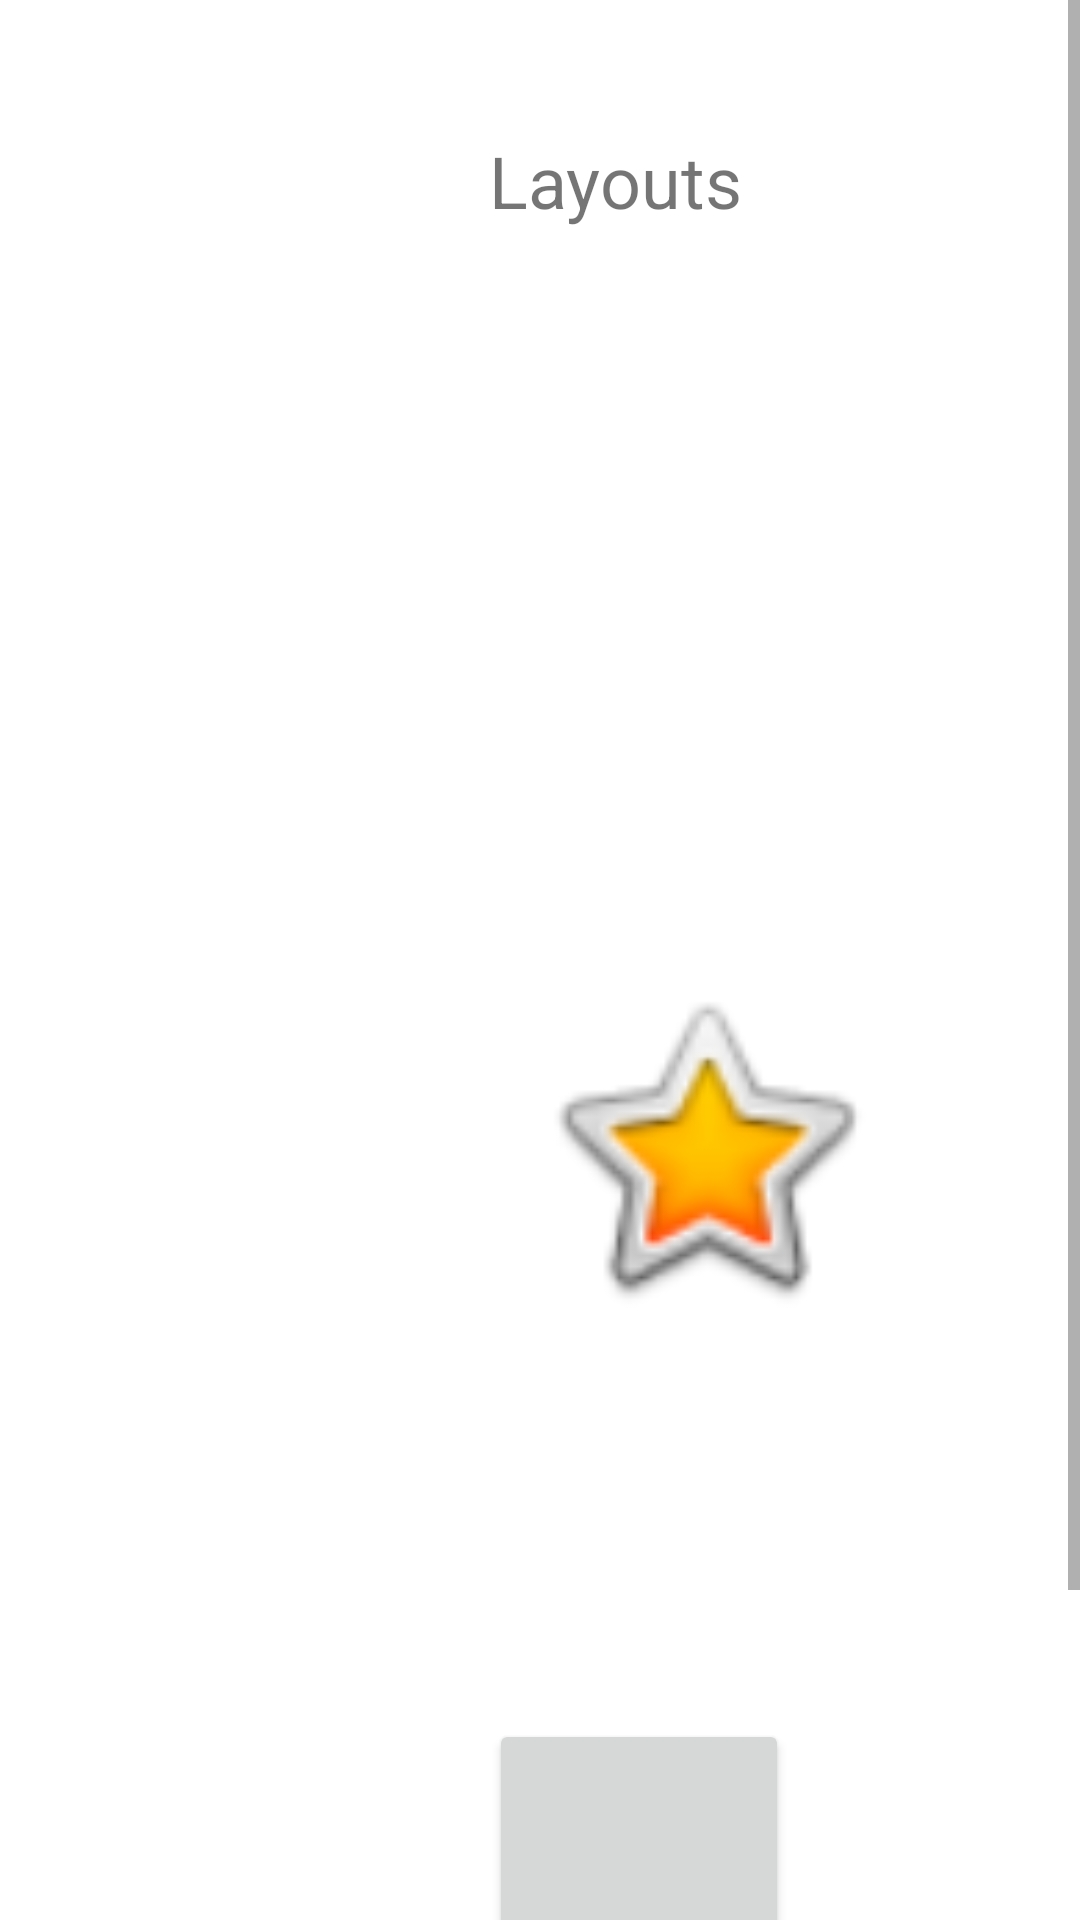

Icons on this 1080px x 1920px Android screen, each with the point to tap as (x,y):
star on: (708,1150)
